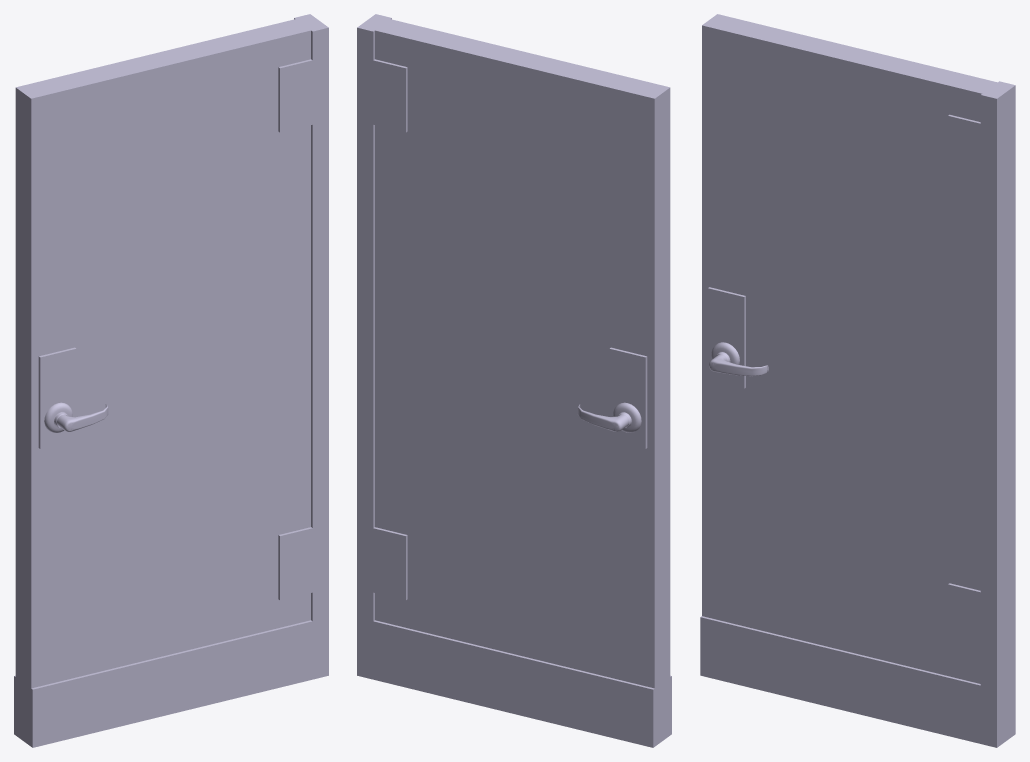
File: door_04.fbx
3 renders of one model, left to right at view 1: azimuth 30°, elevation 25°; view 2: azimuth 150°, elevation 25°; view 3: azimuth 330°, elevation 25°, orthographic.
Parts seen in each view (by area): view 1: Box017; view 2: Box017; view 3: Box017.
Boxes of the visible parts, box(x1,y1,x2,y2) form: Box017: box(14, 14, 328, 747); Box017: box(357, 14, 671, 747); Box017: box(700, 14, 1015, 747).
Bounding box in the file's own units: 44 × 92 × 11.29.
